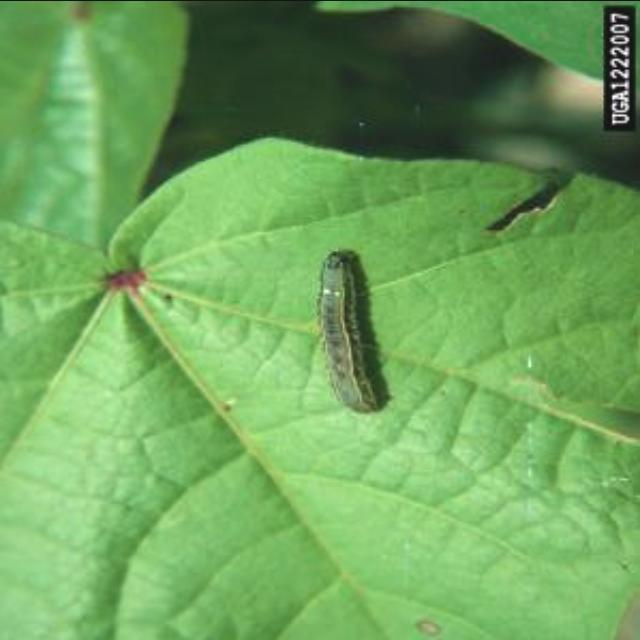Beet armyworm: (284, 238, 428, 426)
